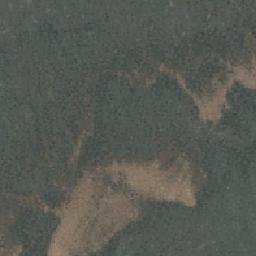debris: (107, 155, 195, 204), (46, 217, 108, 256), (74, 162, 104, 214), (196, 84, 227, 122), (109, 204, 142, 230), (233, 60, 255, 93)
